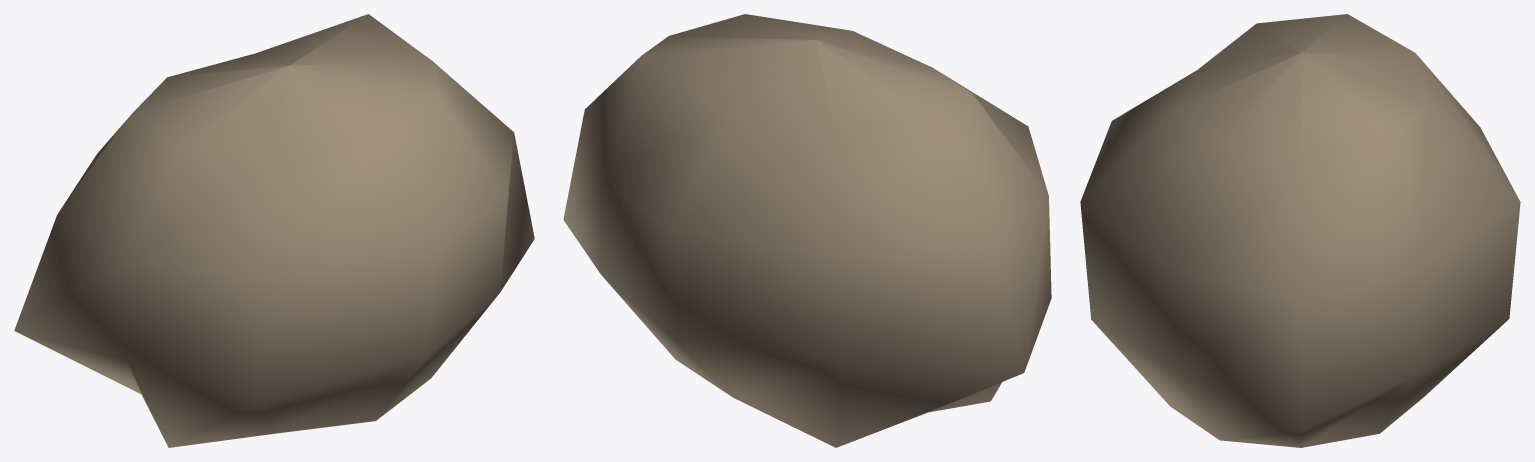
File: rock.glb
3 views of the same model, side by side, from view 1: azimuth 30°, elevation 25°; view 2: azimuth 150°, elevation 25°; view 3: azimuth 270°, elevation 25° (orthographic). The views are drawn at different scales.
Visible parts, largest first — view 1: Rock_stone; view 2: Rock_stone; view 3: Rock_stone.
Part boxes in pixels (<box>): Rock_stone: <box>14,14,534,447</box>; Rock_stone: <box>563,14,1051,447</box>; Rock_stone: <box>1080,14,1520,447</box>.
Bounding box in the file's own units: 2.1 × 1.43 × 1.54.
